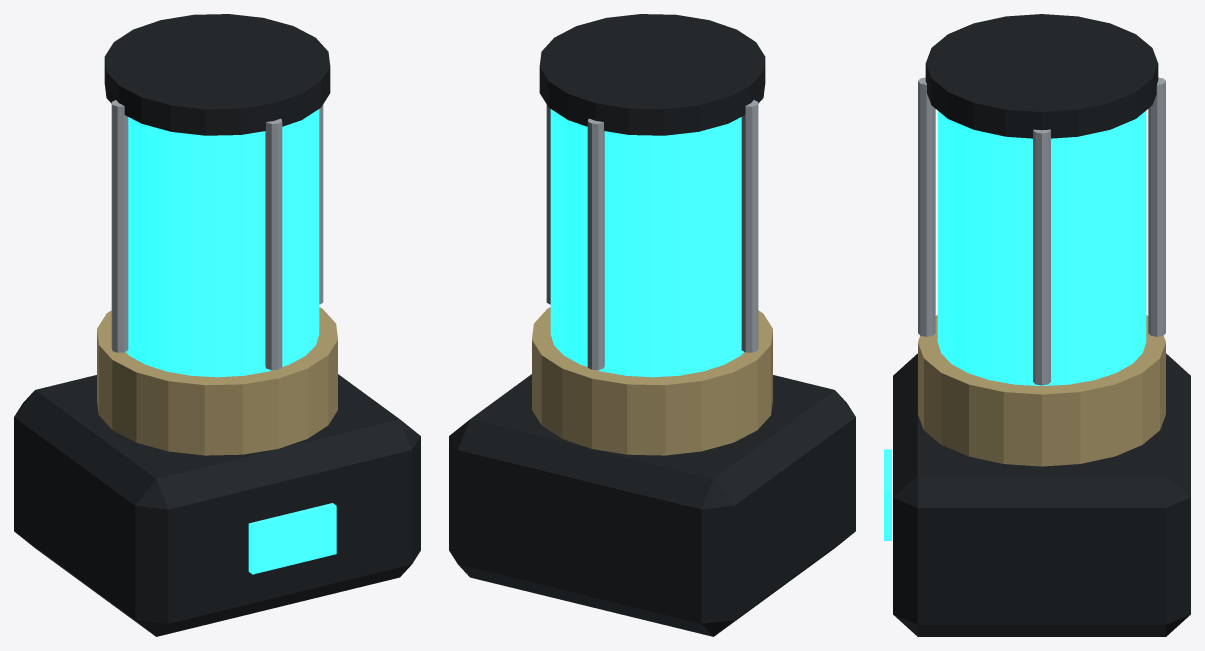
The model's file is rescue_beacon.glb.
3 views of the same model, side by side, from view 1: azimuth 30°, elevation 25°; view 2: azimuth 150°, elevation 25°; view 3: azimuth 270°, elevation 25° (orthographic). The views are drawn at different scales.
Parts seen in each view (by area): view 1: rescue_beacon__m7_dark_polymer, rescue_beacon__m7_rescue_cyan, rescue_beacon__m7_hazard_yellow, rescue_beacon__m7_galvanised_steel; view 2: rescue_beacon__m7_dark_polymer, rescue_beacon__m7_rescue_cyan, rescue_beacon__m7_hazard_yellow, rescue_beacon__m7_galvanised_steel; view 3: rescue_beacon__m7_dark_polymer, rescue_beacon__m7_rescue_cyan, rescue_beacon__m7_hazard_yellow, rescue_beacon__m7_galvanised_steel.
Part boxes in pixels (x1,y1,x2,y2): rescue_beacon__m7_dark_polymer: (14, 14, 420, 636); rescue_beacon__m7_rescue_cyan: (126, 109, 336, 574); rescue_beacon__m7_hazard_yellow: (97, 307, 337, 455); rescue_beacon__m7_galvanised_steel: (111, 100, 323, 370); rescue_beacon__m7_dark_polymer: (449, 14, 855, 636); rescue_beacon__m7_rescue_cyan: (550, 109, 743, 377); rescue_beacon__m7_hazard_yellow: (532, 307, 772, 455); rescue_beacon__m7_galvanised_steel: (546, 100, 758, 370); rescue_beacon__m7_dark_polymer: (893, 14, 1190, 636); rescue_beacon__m7_rescue_cyan: (884, 111, 1146, 540); rescue_beacon__m7_hazard_yellow: (918, 315, 1165, 466); rescue_beacon__m7_galvanised_steel: (918, 77, 1165, 385).
Bounding box in the file's own units: 0.34 × 0.57 × 0.309.
